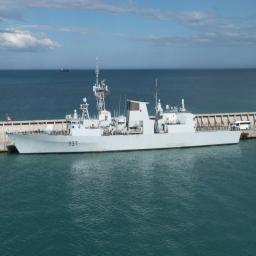Fragata: (6, 55, 244, 158)
